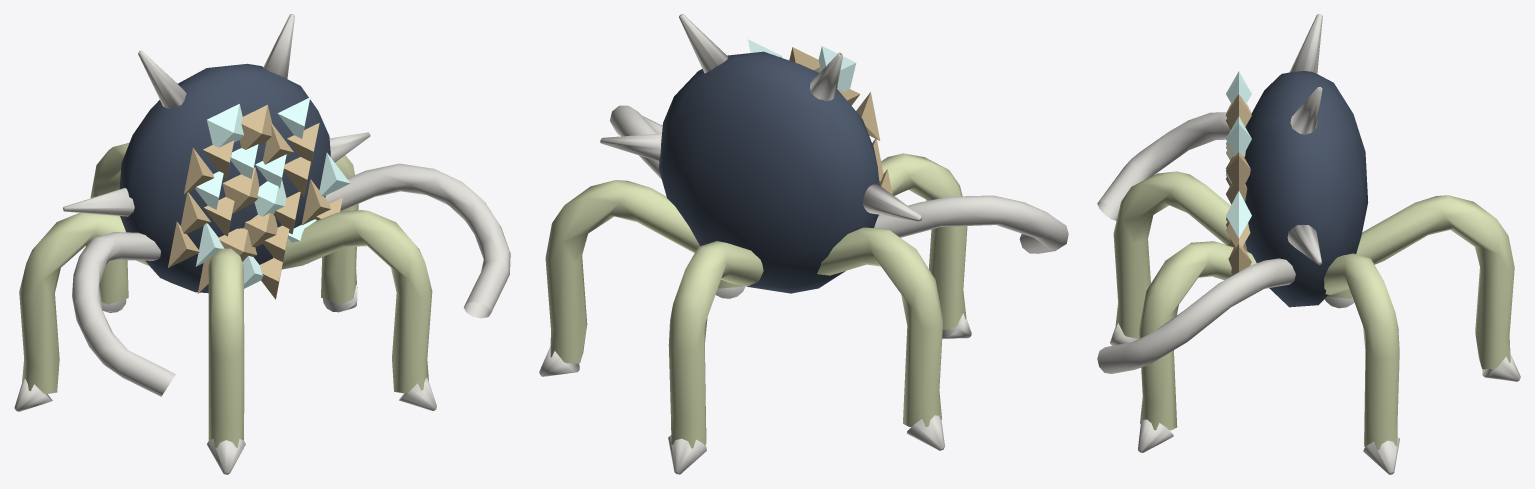
File: bio_crown_stalker_09_far.glb
The picture shows the model from 3 angles, left to right: view 1: azimuth 30°, elevation 25°; view 2: azimuth 150°, elevation 25°; view 3: azimuth 270°, elevation 25°; orthographic projection. The views are drawn at different scales.
Parts seen in each view (by area): view 1: Faceted crown substrate, Compound lens facet.001, Crooked support.003, Scythe sensory limb.001, Crooked support.001, Crooked support.002, Scythe sensory limb, Compound lens facet, Crown radiating blade, Crooked support, Crooked support.004, Contact spur.002 (+2 smaller); view 2: Faceted crown substrate, Crooked support.004, Crooked support.001, Crooked support, Scythe sensory limb, Crooked support.002, Crown radiating blade, Compound lens facet.001, Scythe sensory limb.001, Compound lens facet, Contact spur, Contact spur.001 (+1 smaller); view 3: Faceted crown substrate, Crooked support, Crooked support.002, Crooked support.004, Crooked support.003, Scythe sensory limb.001, Scythe sensory limb, Crown radiating blade, Compound lens facet.001, Compound lens facet, Contact spur.004, Contact spur.003 (+1 smaller).
Boxes of the visible parts, box(x1,y1,x2,y2) form: Faceted crown substrate: box(119, 63, 330, 293); Compound lens facet.001: box(168, 104, 342, 299); Crooked support.003: box(273, 210, 432, 393); Scythe sensory limb.001: box(325, 163, 510, 318); Crooked support.001: box(19, 213, 149, 393); Crooked support.002: box(208, 248, 244, 447); Scythe sensory limb: box(72, 232, 175, 396); Compound lens facet: box(195, 97, 350, 288); Crown radiating blade: box(63, 14, 370, 216); Crooked support: box(90, 142, 129, 304); Crooked support.004: box(321, 155, 358, 304); Contact spur.002: box(207, 438, 245, 474); Faceted crown substrate: box(658, 51, 879, 293); Crooked support.004: box(545, 180, 699, 363); Crooked support.001: box(817, 227, 943, 426); Crooked support: box(668, 241, 763, 448); Scythe sensory limb: box(874, 195, 1068, 253); Crooked support.002: box(881, 153, 967, 329); Crown radiating blade: box(600, 14, 921, 221); Compound lens facet.001: box(789, 47, 892, 194); Scythe sensory limb.001: box(609, 105, 662, 178); Compound lens facet: box(748, 39, 856, 91); Contact spur: box(668, 435, 706, 474); Contact spur.001: box(907, 415, 944, 450); Faceted crown substrate: box(1244, 71, 1368, 307); Crooked support: box(1356, 195, 1514, 369); Crooked support.002: box(1113, 171, 1230, 338); Crooked support.004: box(1324, 253, 1399, 449); Crooked support.003: box(1139, 241, 1256, 430); Scythe sensory limb.001: box(1097, 258, 1295, 373); Scythe sensory limb: box(1097, 112, 1230, 220); Crown radiating blade: box(1287, 14, 1322, 264); Compound lens facet.001: box(1226, 94, 1251, 275); Compound lens facet: box(1226, 71, 1251, 237); Contact spur.004: box(1363, 437, 1399, 474); Contact spur.003: box(1138, 419, 1173, 452).
Size of the model in its own units: 2.59 by 2.03 by 2.29.
